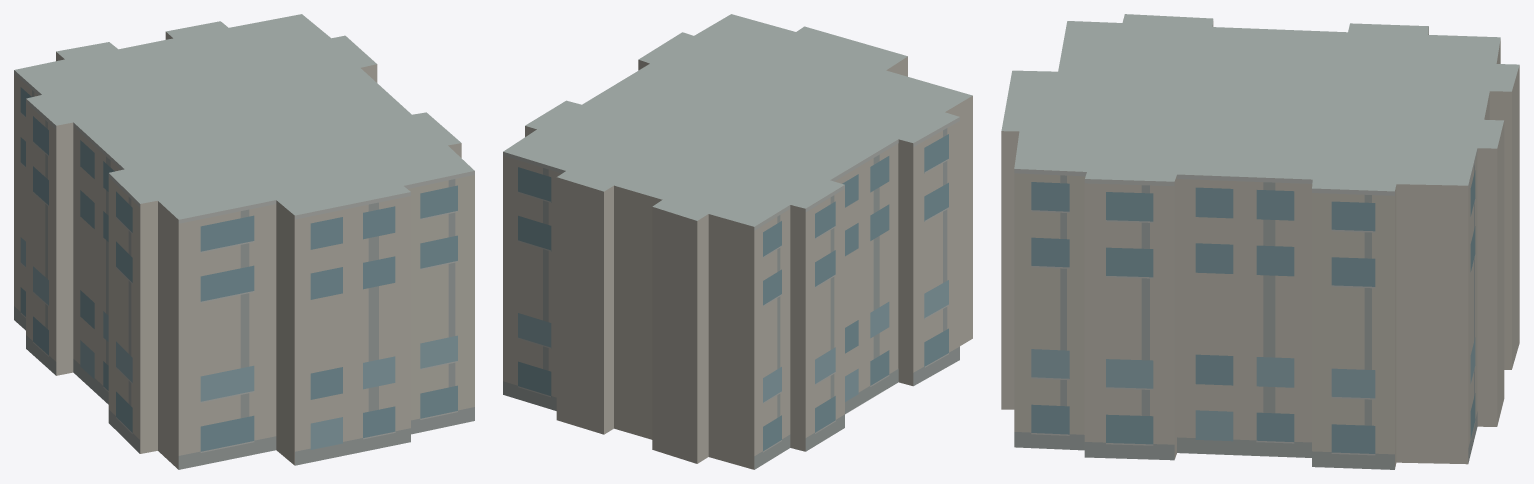
Rendered from survey-upis-32679582.glb.
3 views of the same model, side by side, from view 1: azimuth 30°, elevation 25°; view 2: azimuth 150°, elevation 25°; view 3: azimuth 270°, elevation 25° (orthographic). The views are drawn at different scales.
Parts seen in each view (by area): view 1: survey-upis-32679582.tmp; view 2: survey-upis-32679582.tmp; view 3: survey-upis-32679582.tmp.
Boxes of the visible parts, left/top/right/bottom form: survey-upis-32679582.tmp: left=14, top=14, right=474, bottom=469; survey-upis-32679582.tmp: left=503, top=14, right=972, bottom=469; survey-upis-32679582.tmp: left=1001, top=14, right=1519, bottom=469.
Bounding box in the file's own units: 20.84 × 15.25 × 25.72.
